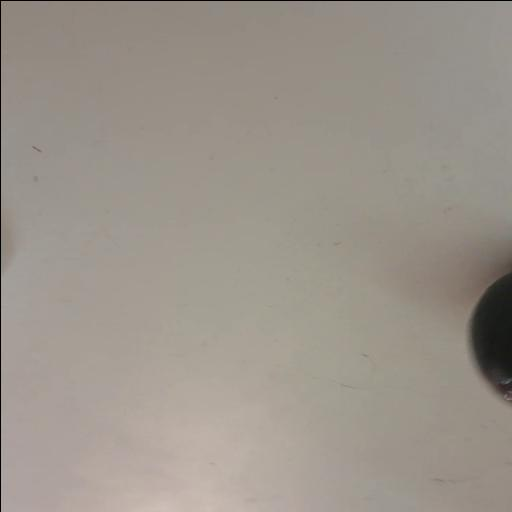dead: (466, 267, 512, 413)
